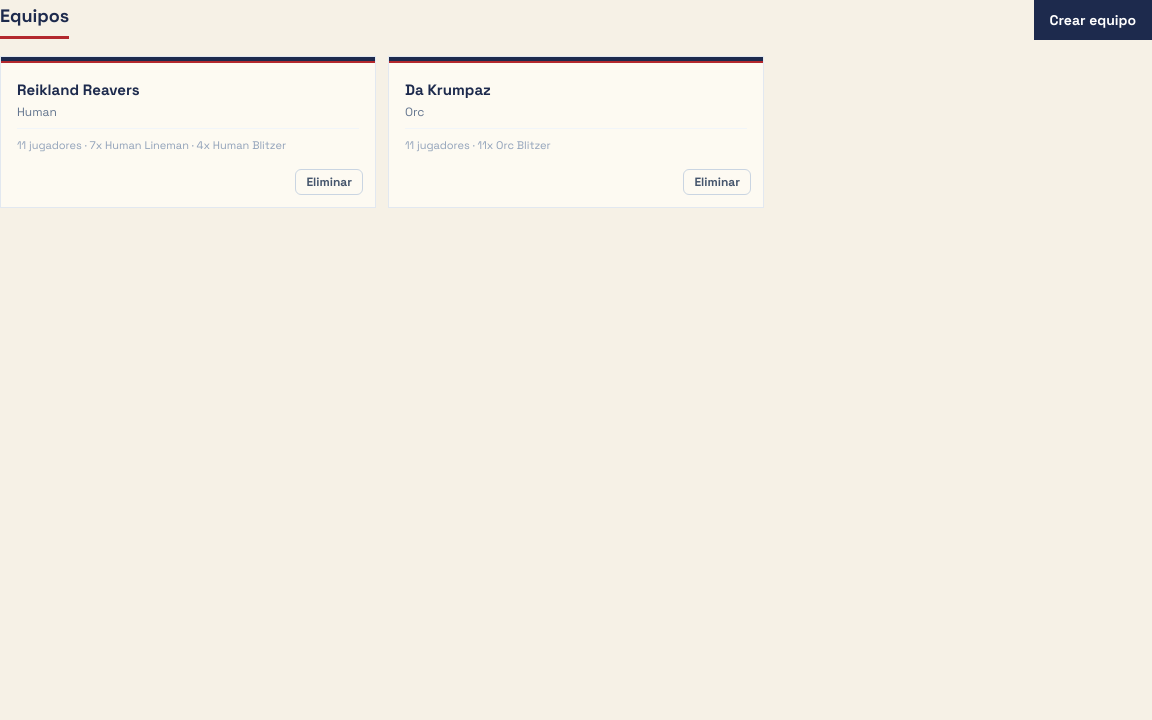
Test: TeamList › opens the confirmation dialog when a delete button is activated without navigating
Check: the heading "Reikland Reavers" is shown, box [17, 80, 140, 99]
Click the button with aria-label "Eliminar Reikland Reavers". click: (329, 182)
box: [295, 169, 363, 195]
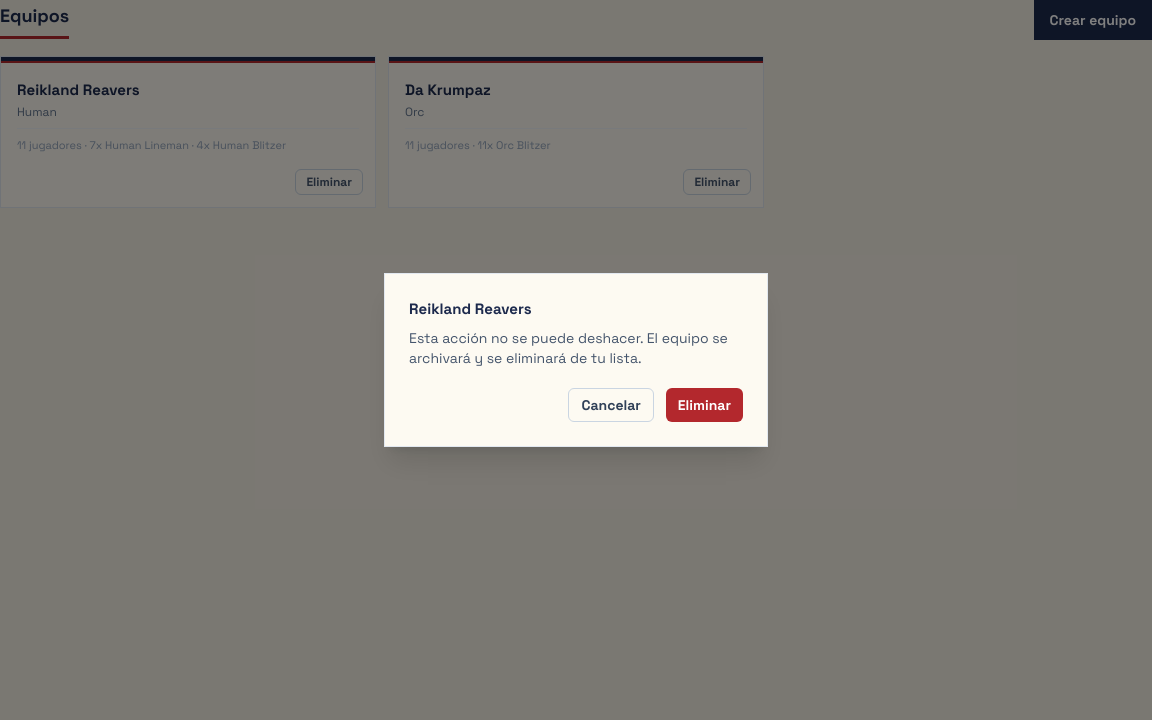
Check: the text "Esta acción no se puede deshacer. El equipo se archivará y se eliminará de tu lista." is shown, box [409, 329, 728, 367]
Check: the button "Cancelar" is shown, box [568, 388, 654, 422]
Check: the button "Eliminar" is shown, box [666, 388, 743, 422]
